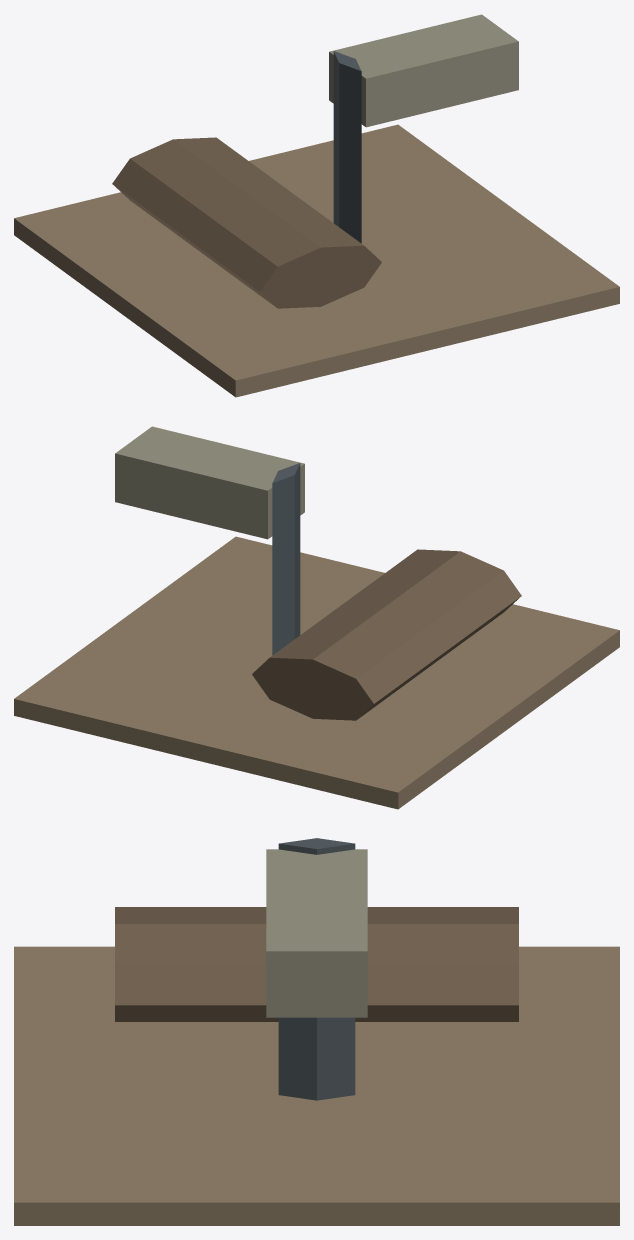
Rendered from tip_up_flag.glb.
3 renders of one model, top to bottom at view 1: azimuth 30°, elevation 25°; view 2: azimuth 150°, elevation 25°; view 3: azimuth 270°, elevation 25°, orthographic. The views are drawn at different scales.
Parts seen in each view (by area): view 1: tip_up_flag; view 2: tip_up_flag; view 3: tip_up_flag.
Part boxes in pixels (x1,y1,x2,y2): tip_up_flag: (14, 14, 619, 397); tip_up_flag: (14, 426, 619, 809); tip_up_flag: (14, 838, 619, 1225).
Bounding box in the file's own units: 0.96 × 0.48 × 0.96.
